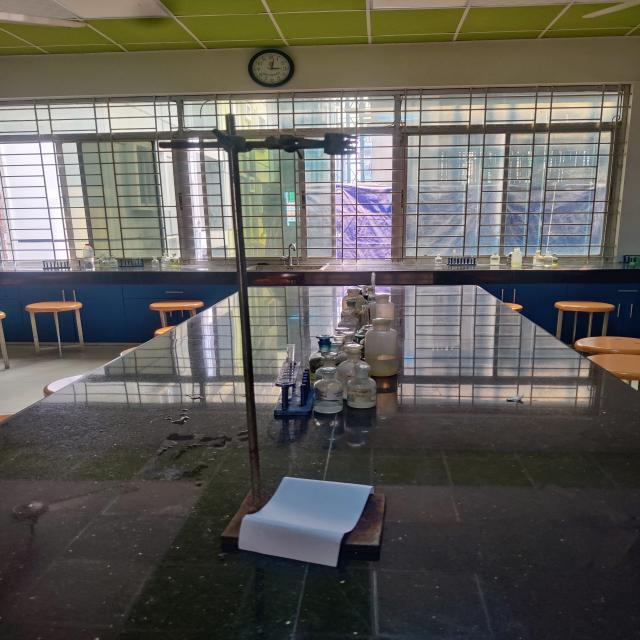Burette_Stands: (139, 102, 401, 566)
